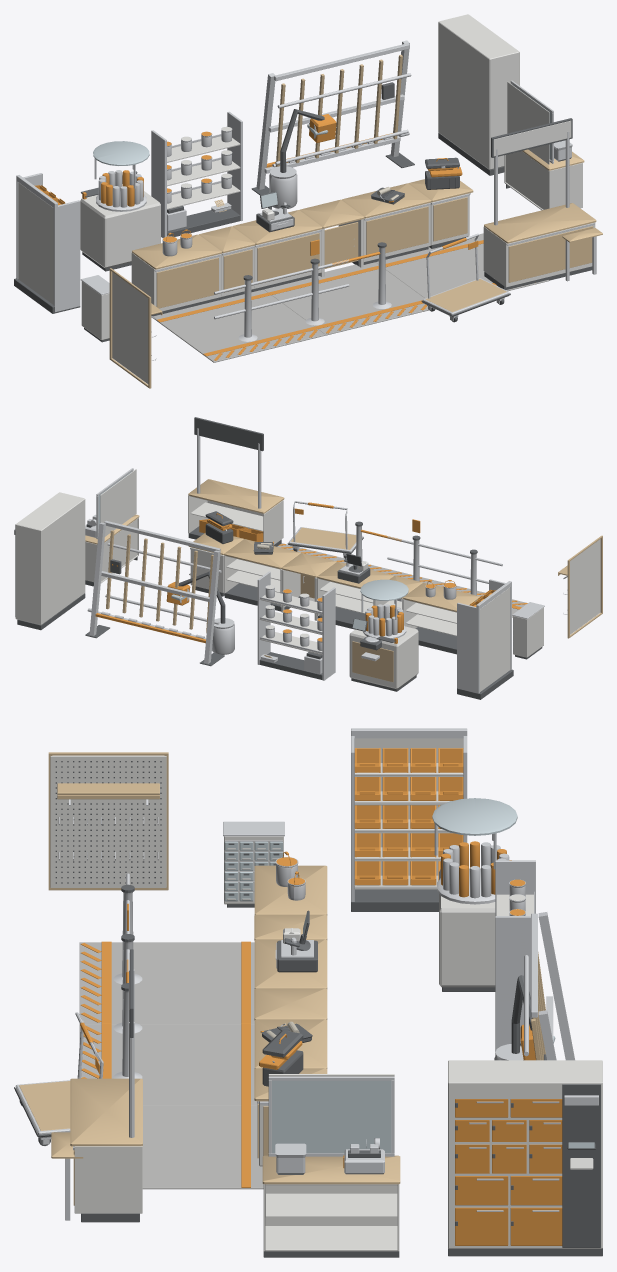
File: trade-counter-and-paint-mixing-area.glb
The picture shows the model from 3 angles, top to bottom: view 1: azimuth 30°, elevation 25°; view 2: azimuth 150°, elevation 25°; view 3: azimuth 270°, elevation 25°; orthographic projection. The views are drawn at different scales.
Parts seen in each view (by area): view 1: 016-click-and-collect-locker-bank/1, 015-timber-cutting-saw-station/0, 000-aisle-floor-marking-tile/0, 021-returns-desk/2, 001-aisle-floor-marking-tile/0, 017-key-cutting-booth/0, 012-paint-tinting-shelf/0, 011-paint-mixing-machine/0, 018-fastener-bin-wall/1, 003-trade-counter-module/2, 007-trade-counter-module/2, 018-fastener-bin-wall/2 (+29 smaller); view 2: 016-click-and-collect-locker-bank/1, 015-timber-cutting-saw-station/0, 012-paint-tinting-shelf/0, 017-key-cutting-booth/0, 018-fastener-bin-wall/2, 018-fastener-bin-wall/1, 020-tool-pegboard-panel/0, 021-returns-desk/1, 011-paint-mixing-machine/0, 015-timber-cutting-saw-station/3, 021-returns-desk/2, 012-paint-tinting-shelf/2 (+33 smaller); view 3: 020-tool-pegboard-panel/0, 000-aisle-floor-marking-tile/0, 018-fastener-bin-wall/3, 001-aisle-floor-marking-tile/0, 017-key-cutting-booth/0, 016-click-and-collect-locker-bank/1, 002-aisle-floor-marking-tile/0, 017-key-cutting-booth/blank-board-door/glass, 016-click-and-collect-locker-bank/0, 021-returns-desk/2, 012-paint-tinting-shelf/0, 011-paint-mixing-machine/0 (+45 smaller).
Boxes of the visible parts, box(x1,y1,x2,y2) form: 016-click-and-collect-locker-bank/1: box(438, 14, 519, 169); 015-timber-cutting-saw-station/0: box(256, 40, 411, 208); 000-aisle-floor-marking-tile/0: box(152, 289, 325, 362); 021-returns-desk/2: box(484, 203, 602, 282); 001-aisle-floor-marking-tile/0: box(264, 262, 428, 335); 017-key-cutting-booth/0: box(504, 81, 582, 210); 012-paint-tinting-shelf/0: box(151, 111, 242, 237); 011-paint-mixing-machine/0: box(80, 191, 160, 268); 018-fastener-bin-wall/1: box(16, 173, 80, 312); 003-trade-counter-module/2: box(132, 234, 222, 308); 007-trade-counter-module/2: box(341, 183, 431, 257); 018-fastener-bin-wall/2: box(18, 182, 53, 304); 016-click-and-collect-locker-bank/1: box(15, 492, 85, 624); 015-timber-cutting-saw-station/0: box(87, 520, 234, 663); 012-paint-tinting-shelf/0: box(257, 571, 335, 680); 017-key-cutting-booth/0: box(85, 469, 138, 583); 018-fastener-bin-wall/2: box(480, 587, 510, 691); 018-fastener-bin-wall/1: box(457, 579, 511, 693); 020-tool-pegboard-panel/0: box(570, 539, 600, 634); 021-returns-desk/1: box(188, 495, 283, 544); 011-paint-mixing-machine/0: box(349, 626, 418, 689); 015-timber-cutting-saw-station/3: box(106, 530, 213, 632); 021-returns-desk/2: box(188, 479, 284, 513); 012-paint-tinting-shelf/2: box(259, 585, 322, 654); 020-tool-pegboard-panel/0: box(50, 756, 166, 887); 000-aisle-floor-marking-tile/0: box(79, 942, 254, 1024); 018-fastener-bin-wall/3: box(354, 748, 463, 885); 001-aisle-floor-marking-tile/0: box(79, 1024, 257, 1105); 017-key-cutting-booth/0: box(263, 1074, 399, 1251); 016-click-and-collect-locker-bank/1: box(448, 1060, 602, 1248); 002-aisle-floor-marking-tile/0: box(142, 1106, 263, 1189); 017-key-cutting-booth/blank-board-door/glass: box(272, 1080, 391, 1153); 016-click-and-collect-locker-bank/0: box(448, 1084, 602, 1256); 021-returns-desk/2: box(51, 1078, 142, 1205); 012-paint-tinting-shelf/0: box(495, 860, 535, 1055); 011-paint-mixing-machine/0: box(439, 868, 495, 987).
Size of the model in its own units: 9.07 by 2.4 by 6.08.
